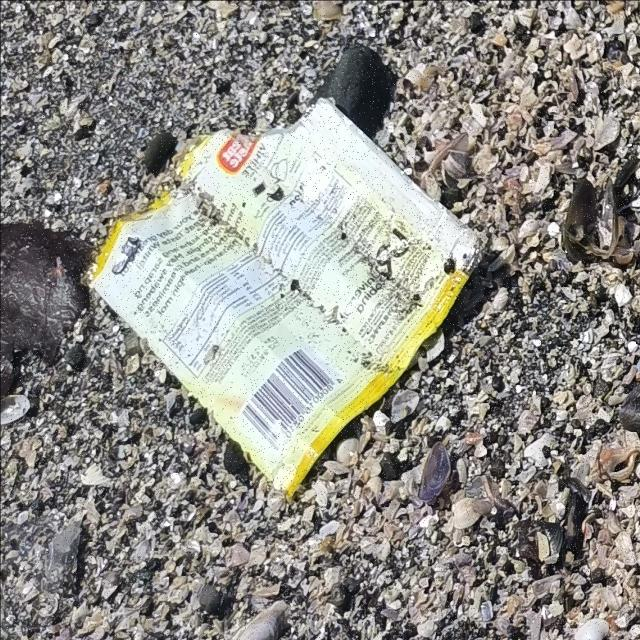plastic_waste: (79, 94, 492, 500)
